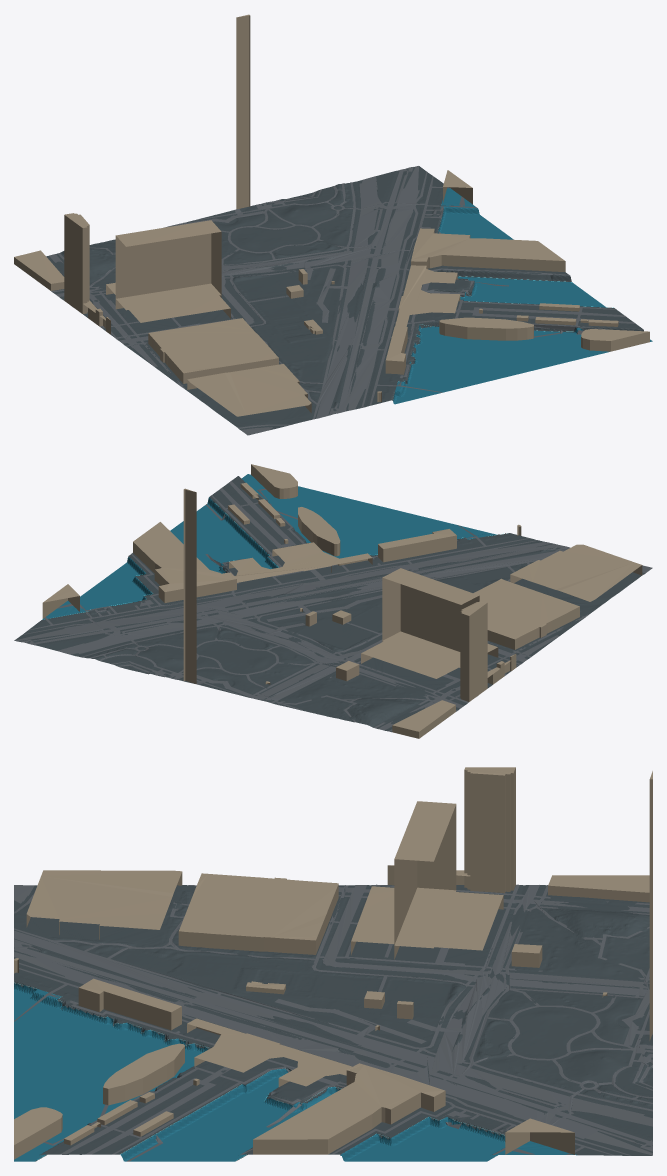
File: epsg26910-1440-10894.lod0.glb
3 renders of one model, top to bottom at view 1: azimuth 30°, elevation 25°; view 2: azimuth 150°, elevation 25°; view 3: azimuth 270°, elevation 25°, orthographic. The views are drawn at different scales.
Parts seen in each view (by area): view 1: epsg26910-1440-10894-lod0; view 2: epsg26910-1440-10894-lod0; view 3: epsg26910-1440-10894-lod0.
Part boxes in pixels (x1=…): epsg26910-1440-10894-lod0: x1=14, y1=14, x2=652, y2=435; epsg26910-1440-10894-lod0: x1=14, y1=464, x2=652, y2=738; epsg26910-1440-10894-lod0: x1=14, y1=767, x2=652, y2=1161.
Size of the model in its own units: 384 by 179 by 384.
